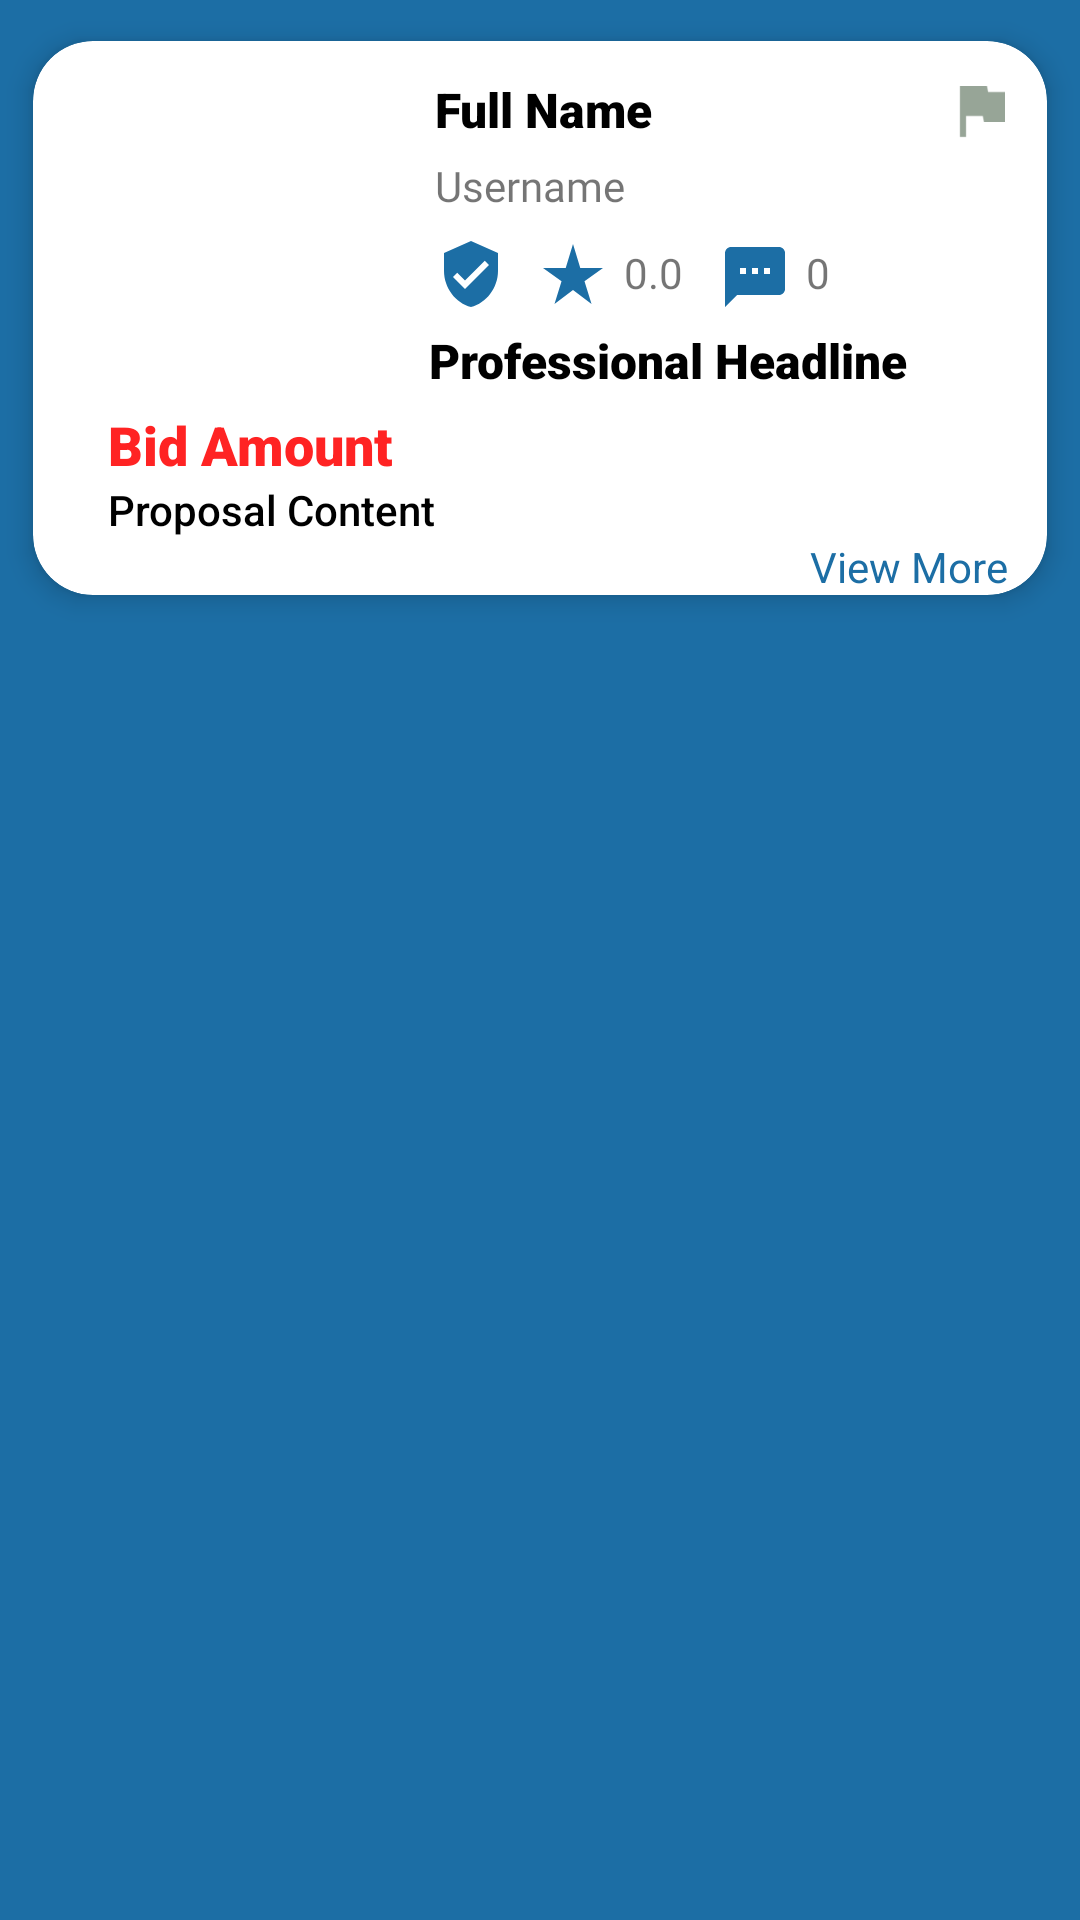

Where to tap for icons on this 1080px x 1920px app screen, as (x,y):
flag: (982,111)
star rate: (573,274)
textsms: (755,277)
verified user: (471,274)
